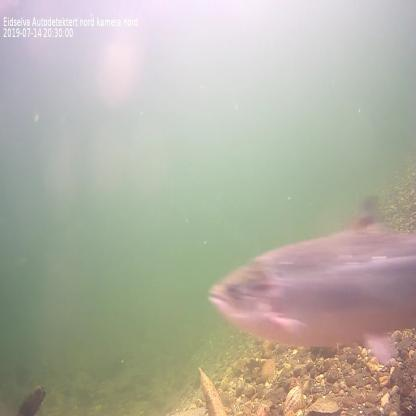salmon: (202, 187, 416, 372)
